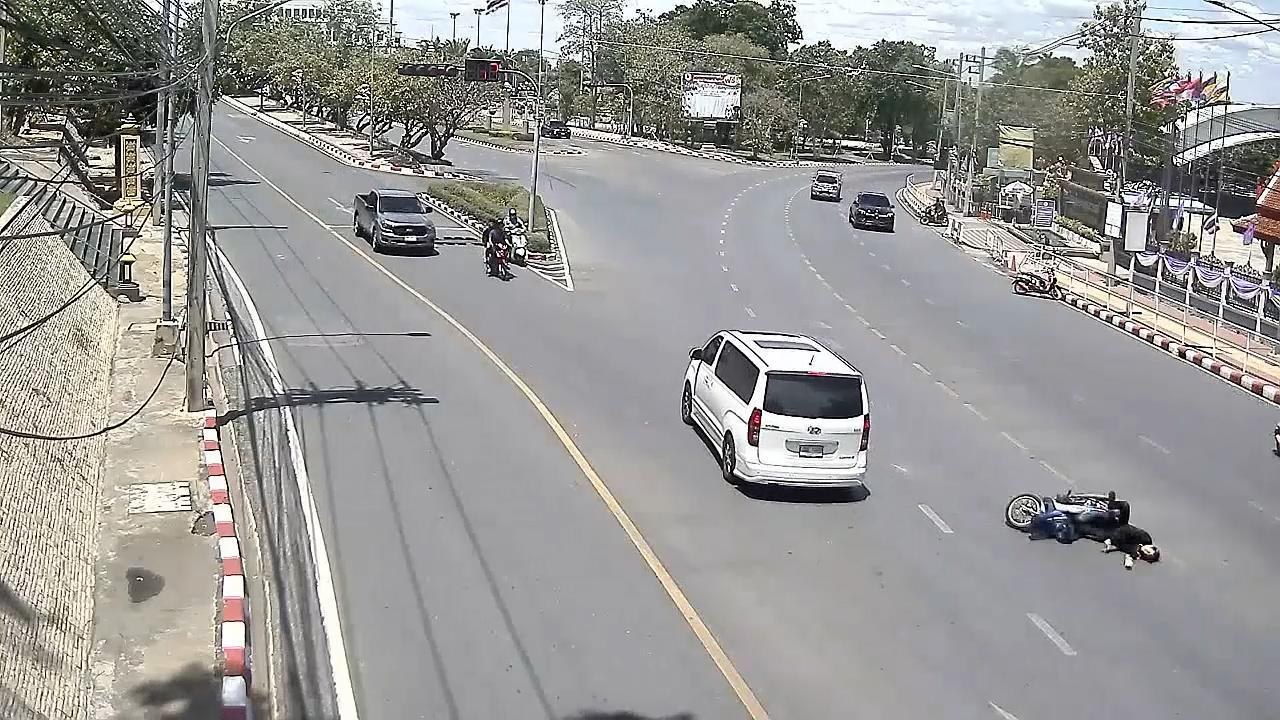accident: (1097, 491, 1161, 571)
